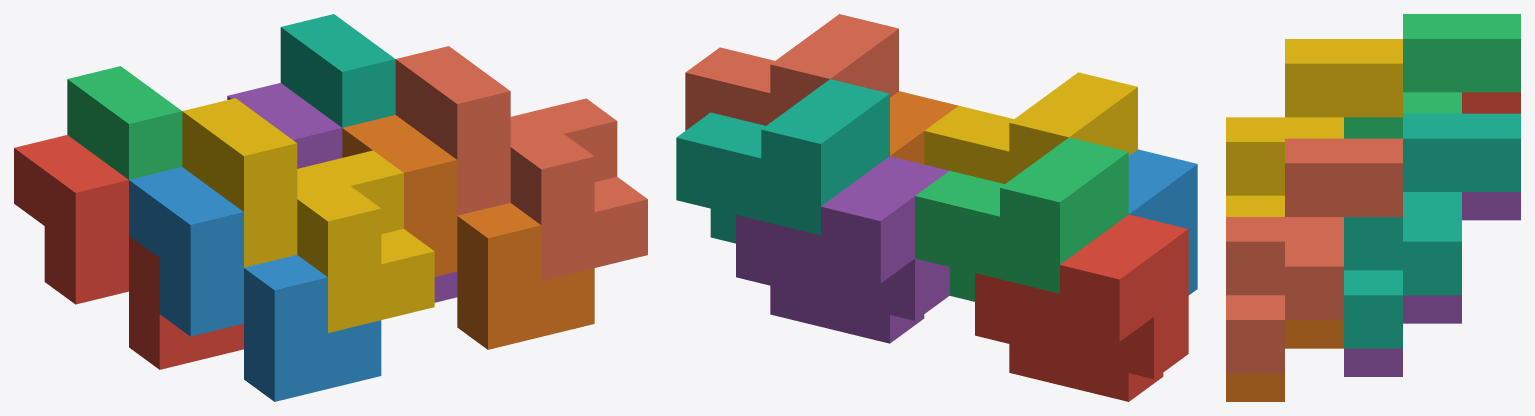
Rendered from tiling.obj.
The picture shows the model from 3 angles, left to right: view 1: azimuth 30°, elevation 25°; view 2: azimuth 150°, elevation 25°; view 3: azimuth 270°, elevation 25°; orthographic projection. The views are drawn at different scales.
Visible parts, largest first — view 1: copy_1_domain_8, copy_1_domain_4, copy_1_domain_2, copy_1_domain_6, copy_1_domain_1, copy_1_domain_3, copy_1_domain_7, copy_1_domain_5; view 2: copy_1_domain_1, copy_1_domain_5, copy_1_domain_3, copy_1_domain_7, copy_1_domain_8, copy_1_domain_4, copy_1_domain_2, copy_1_domain_6; view 3: copy_1_domain_8, copy_1_domain_7, copy_1_domain_4, copy_1_domain_3, copy_1_domain_5, copy_1_domain_6, copy_1_domain_1.
Boxes of the visible parts, bbox=[...] form: copy_1_domain_8: bbox=[395, 46, 647, 280]; copy_1_domain_4: bbox=[182, 98, 434, 332]; copy_1_domain_2: bbox=[129, 167, 381, 401]; copy_1_domain_6: bbox=[342, 115, 594, 349]; copy_1_domain_1: bbox=[14, 135, 243, 369]; copy_1_domain_3: bbox=[67, 66, 182, 179]; copy_1_domain_7: bbox=[280, 14, 395, 127]; copy_1_domain_5: bbox=[227, 83, 457, 302]; copy_1_domain_1: bbox=[975, 214, 1188, 401]; copy_1_domain_5: bbox=[736, 156, 949, 343]; copy_1_domain_3: bbox=[915, 137, 1128, 301]; copy_1_domain_7: bbox=[676, 79, 889, 243]; copy_1_domain_8: bbox=[685, 14, 898, 130]; copy_1_domain_4: bbox=[924, 72, 1137, 183]; copy_1_domain_2: bbox=[1128, 149, 1197, 295]; copy_1_domain_6: bbox=[890, 91, 958, 164]; copy_1_domain_8: bbox=[1226, 138, 1402, 373]; copy_1_domain_7: bbox=[1344, 113, 1520, 348]; copy_1_domain_4: bbox=[1226, 39, 1402, 216]; copy_1_domain_3: bbox=[1344, 14, 1520, 138]; copy_1_domain_5: bbox=[1344, 192, 1520, 376]; copy_1_domain_6: bbox=[1226, 320, 1343, 401]; copy_1_domain_1: bbox=[1462, 92, 1520, 113].
Size of the model in its own units: 9 by 4 by 5.
